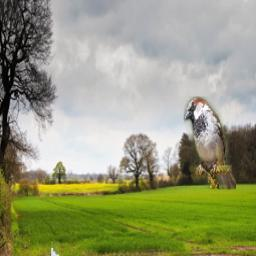Crow: (52, 119, 101, 256)
Sparrow: (184, 98, 236, 191)
